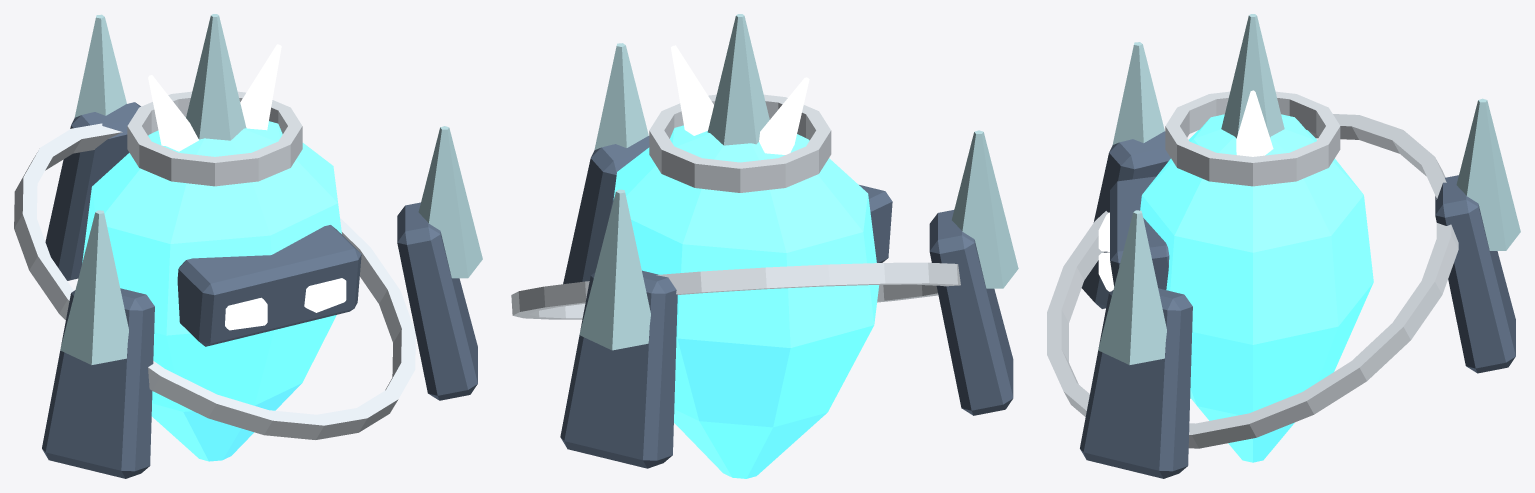
File: CryoTitan.glb
3 renders of one model, left to right at view 1: azimuth 30°, elevation 25°; view 2: azimuth 150°, elevation 25°; view 3: azimuth 270°, elevation 25°, orthographic. The views are drawn at different scales.
Visible parts, largest first — view 1: CryoTitan; view 2: CryoTitan; view 3: CryoTitan.
Part boxes in pixels (x1=…): CryoTitan: x1=14, y1=14, x2=482, y2=478; CryoTitan: x1=511, y1=14, x2=1018, y2=478; CryoTitan: x1=1047, y1=14, x2=1520, y2=478.
Size of the model in its own units: 3.48 by 3.38 by 3.3.
